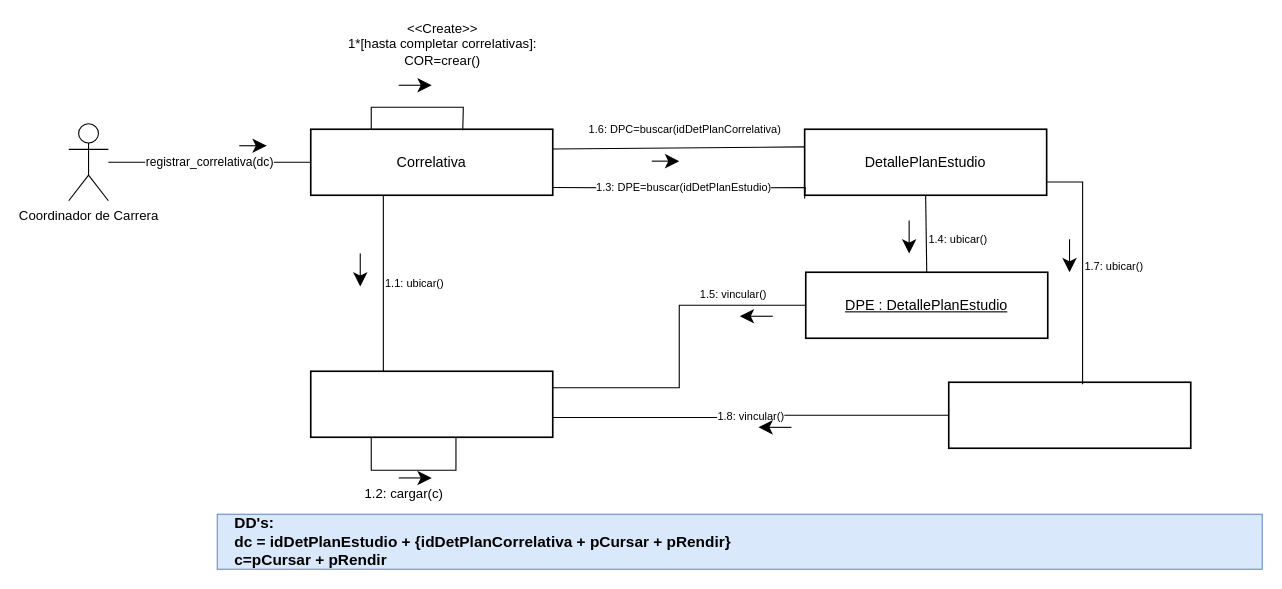
Image size: 1282x589. Some labels were removed from this diagram. Each missing label, with the centre of its shape:
COR : Correlativa: (x=431, y=404)
DPC : DetallePlanEstudio: (x=1069, y=415)
